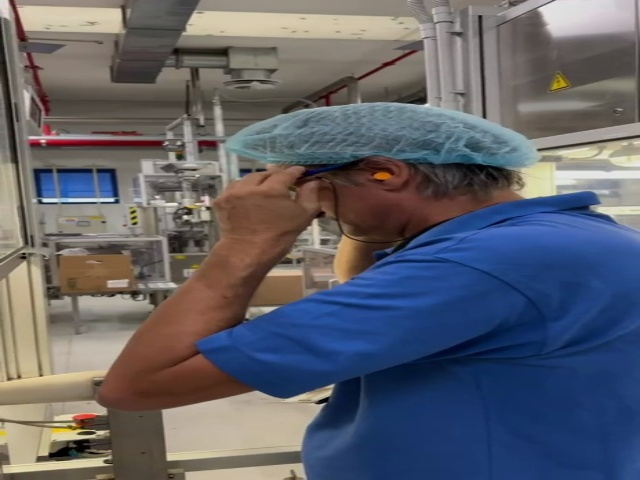Earplug: (358, 155, 408, 195)
Hairnet: (223, 101, 539, 164)
No_Helmet: (225, 103, 541, 164)
No_Vest: (306, 213, 640, 480)
Person: (96, 101, 640, 480)
Safety_Goggles: (261, 152, 379, 192)
